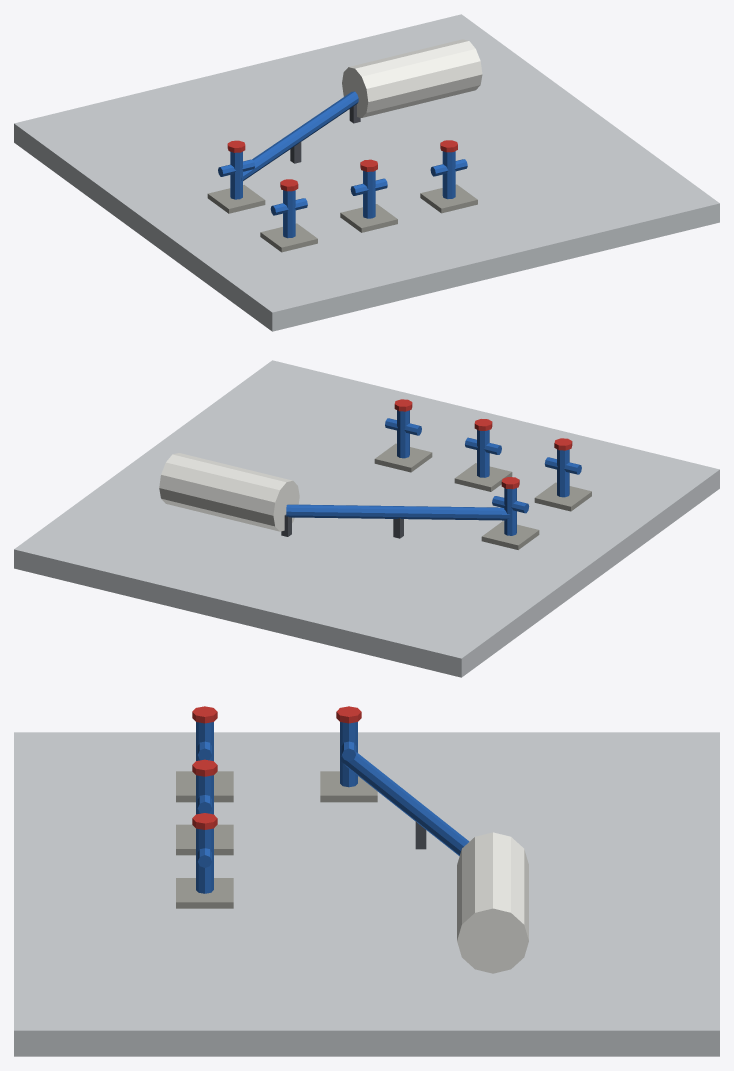
Rendered from gas_rent_2.glb.
3 views of the same model, one above another, from view 1: azimuth 30°, elevation 25°; view 2: azimuth 150°, elevation 25°; view 3: azimuth 270°, elevation 25° (orthographic). The views are drawn at different scales.
Parts seen in each view (by area): view 1: gas_rent_2; view 2: gas_rent_2; view 3: gas_rent_2.
Boxes of the visible parts, box(x1,y1,x2,y2) form: gas_rent_2: box(14, 14, 719, 331); gas_rent_2: box(14, 360, 719, 677); gas_rent_2: box(14, 706, 719, 1056).
Size of the model in its own units: 1.96 by 0.32 by 1.96.
